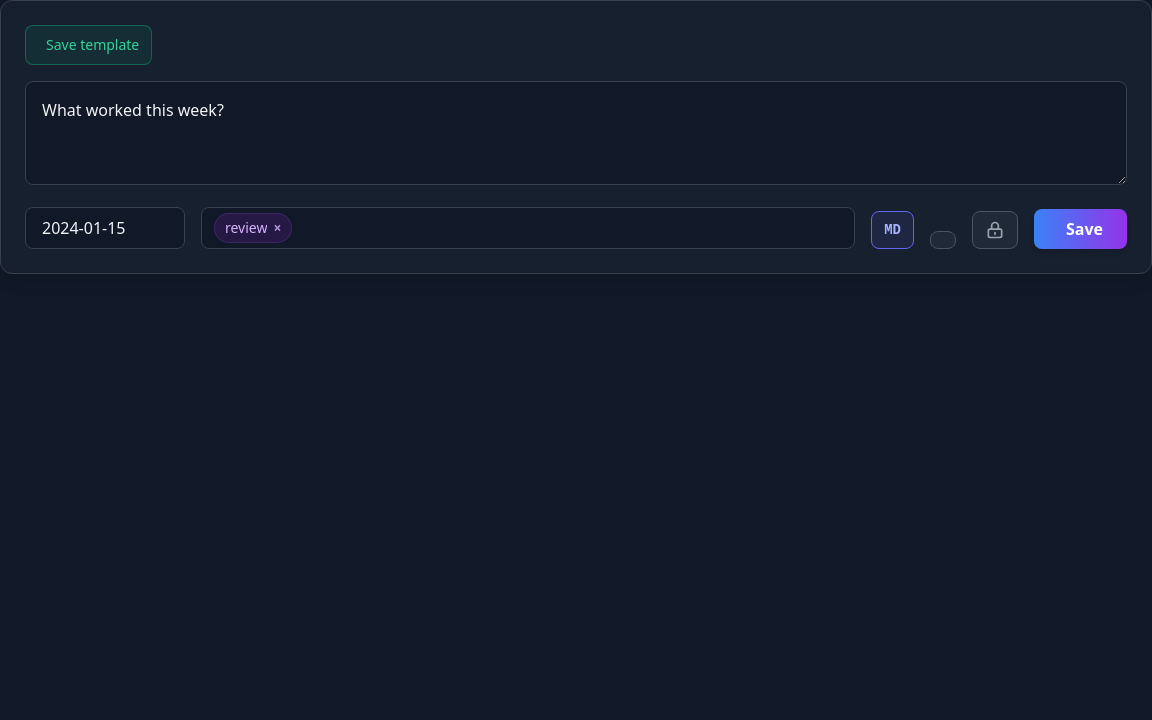
EntryForm templates › saves the current draft as a template under the name typed in the dialog
Click the button "Save template" at (89, 45), box [25,25,152,65]
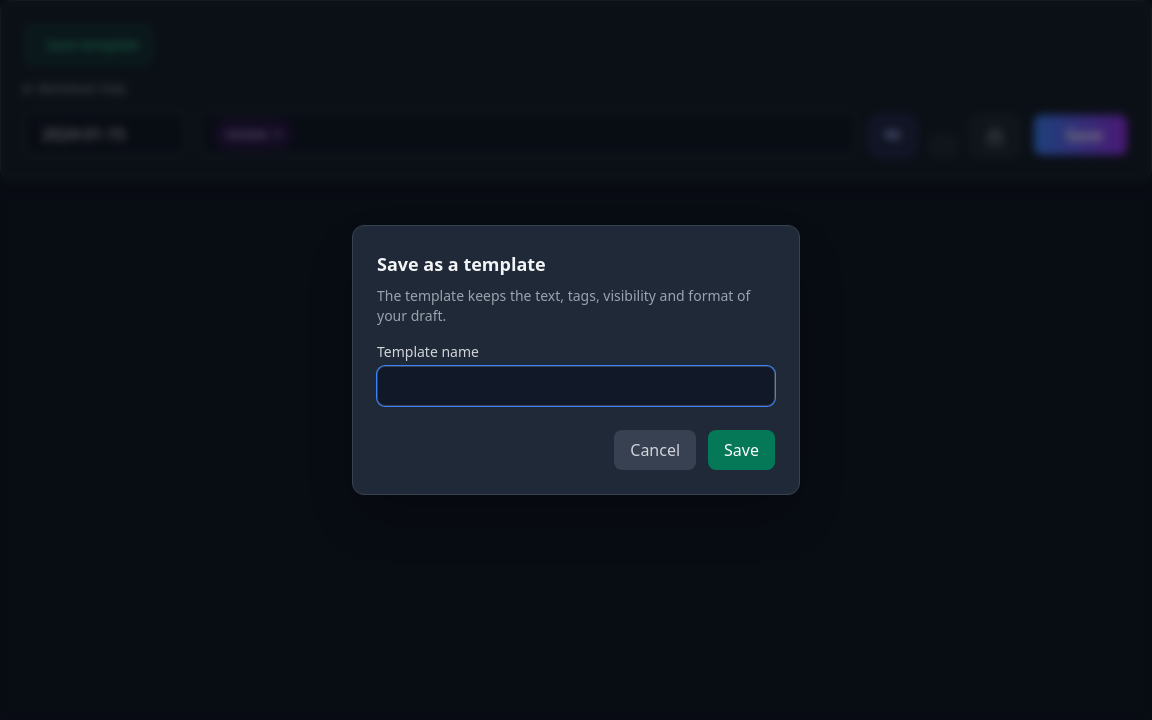
Type "  Weekly review " into the field labelled "Template name" at (576, 386), box [377,366,775,406]
Then press Enter
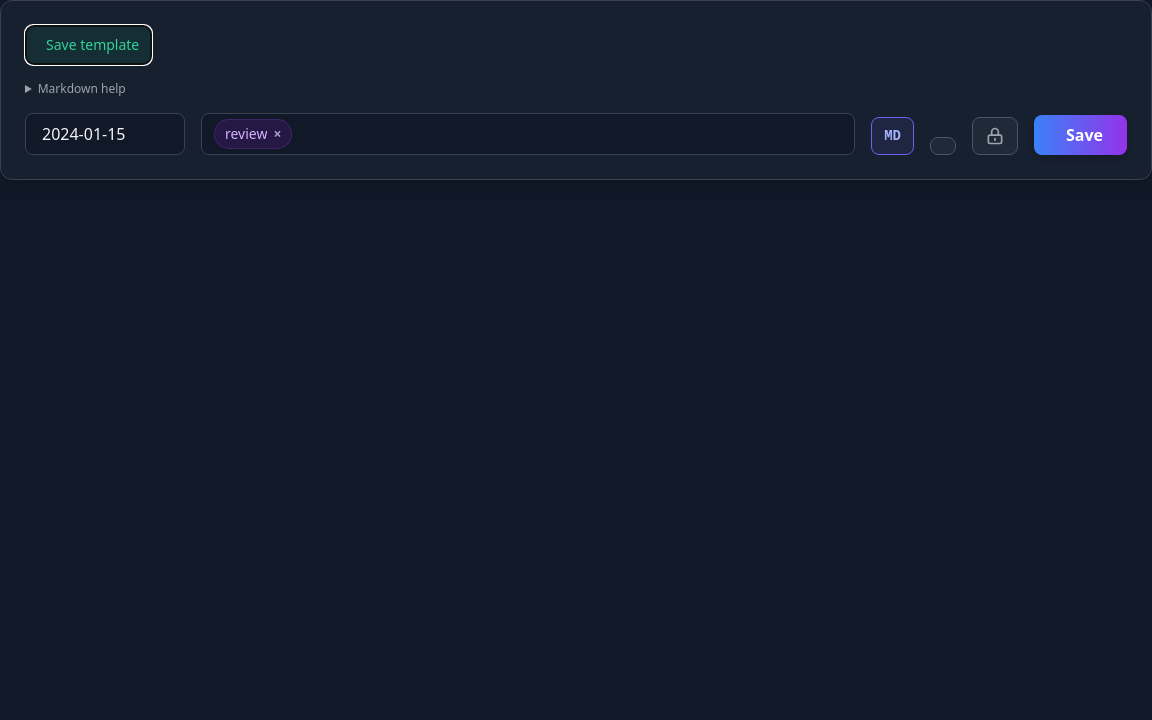
Expected: the heading "Save as a template" is gone
